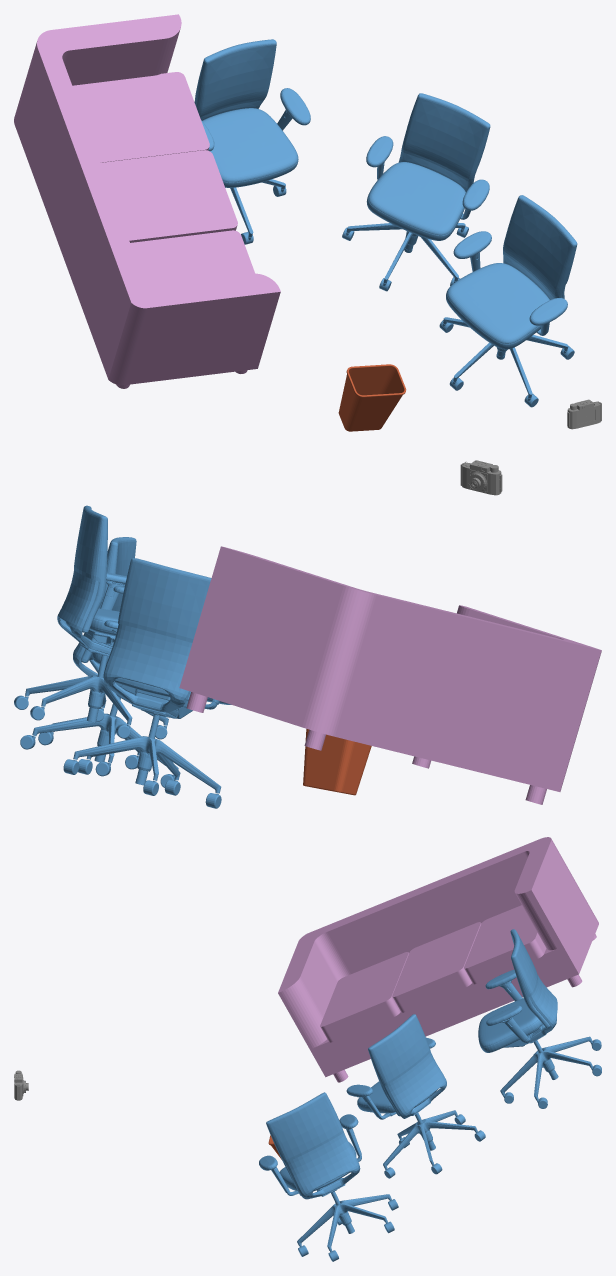
The model's file is mesh_sofa.glb.
3 renders of one model, top to bottom at view 1: azimuth 30°, elevation 25°; view 2: azimuth 150°, elevation 25°; view 3: azimuth 270°, elevation 25°, orthographic. The views are drawn at different scales.
Visible parts, largest first — view 1: world; view 2: world; view 3: world.
Boxes of the visible parts, left/top/right/bottom form: world: left=14, top=14, right=601, bottom=431; world: left=14, top=460, right=601, bottom=808; world: left=14, top=837, right=601, bottom=1261.
Bounding box in the file's own units: 2.68 × 1.94 × 3.64.
